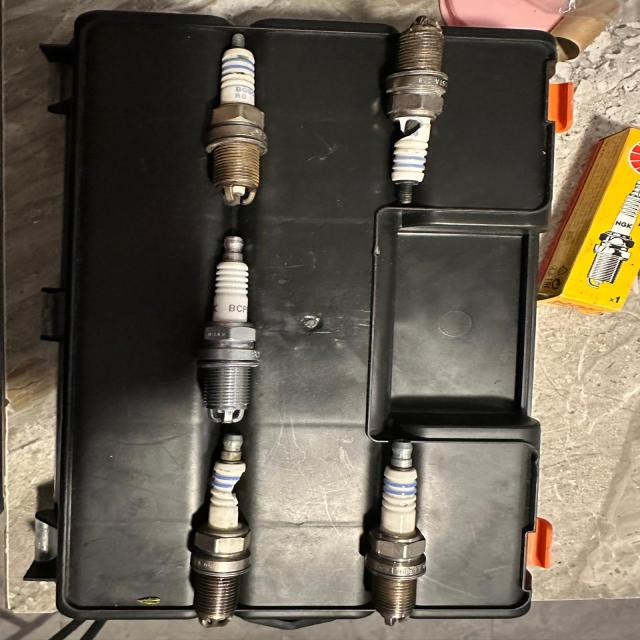damaged_spark-plug: (369, 12, 450, 210), (198, 432, 258, 635)
spark-plug: (199, 228, 271, 424), (362, 438, 436, 626), (204, 28, 274, 214)
